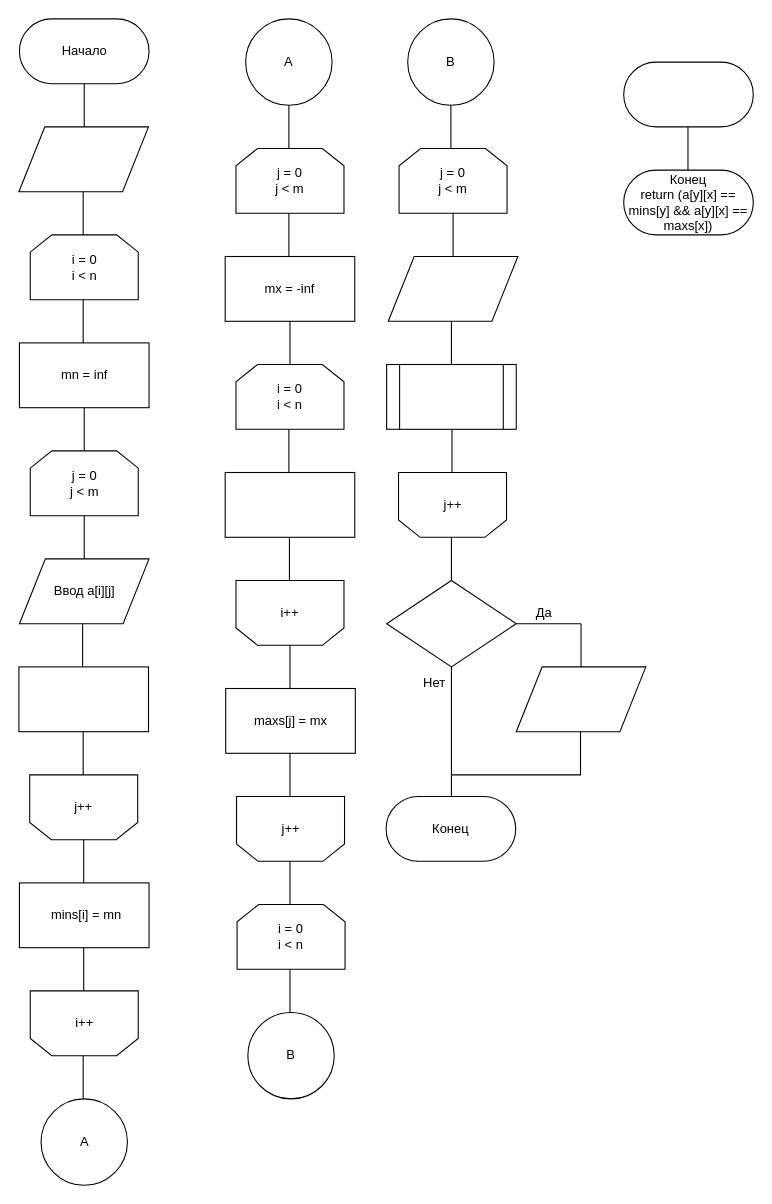
This 772x1204 diagram has some shape labels left out. Here are the shapes that lost their labels. From the top down, the centre of each, then its label:
point (688, 94): Начало isSaddle(y, x)
point (83, 159): Ввод n, m
point (452, 288): Вывод isSaddle(i, j) ? a[i][j] : 0)
point (451, 396): b = isSaddle(i, j) || b
point (289, 504): mx = max(mx, a[i][j])
point (451, 623): a[i] > mean
point (83, 699): mn = min(mn, a[i][j])
point (580, 699): Вывод a[i]
